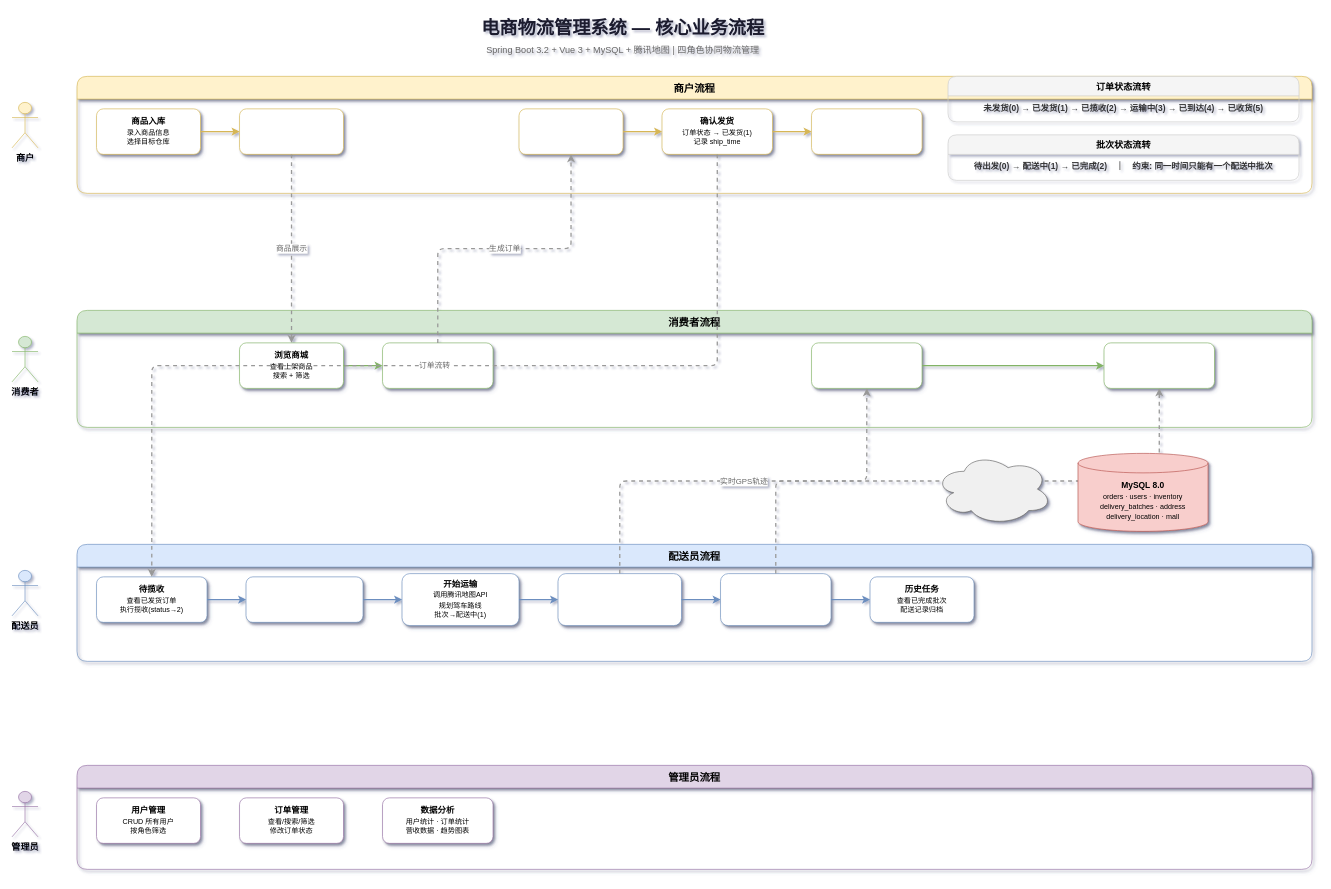
Some shapes in this 1331 by 889 pixel diagram are drawn without their labels. Here are the shapes that lost their labels. From the top down, the centre of each, then its label:
At pixel 291 132: "商城上架 设置售价和数量 写入 mall 表".
At pixel 571 132: "收到新订单 订单状态: 未发货(0)".
At pixel 867 132: "物流查询 地图 + 路线 + 时间线 实时追踪配送进度".
At pixel 438 366: "选择商品下单 选数量 + 收货地址 创建订单(status=0)".
At pixel 867 366: "查看物流轨迹 腾讯地图实时追踪 仓库→自己地址路线".
At pixel 1159 366: "确认收货 订单状态 → 已收货(5) 记录 receive_time".
At pixel 994 489: "腾讯地图 API 驾车路径规划 Polyline 路线数据".
At pixel 305 600: "创建配送批次 选择多个已揽收订单 组成一个批次(status=0)".
At pixel 620 600: "沿路线配送 🚛 GPS实时定位 途径点逐个送达 订单自动更新(status→4)".
At pixel 776 600: "完成批次 所有订单送达 批次→已完成(2) 记录 delivery_time".
